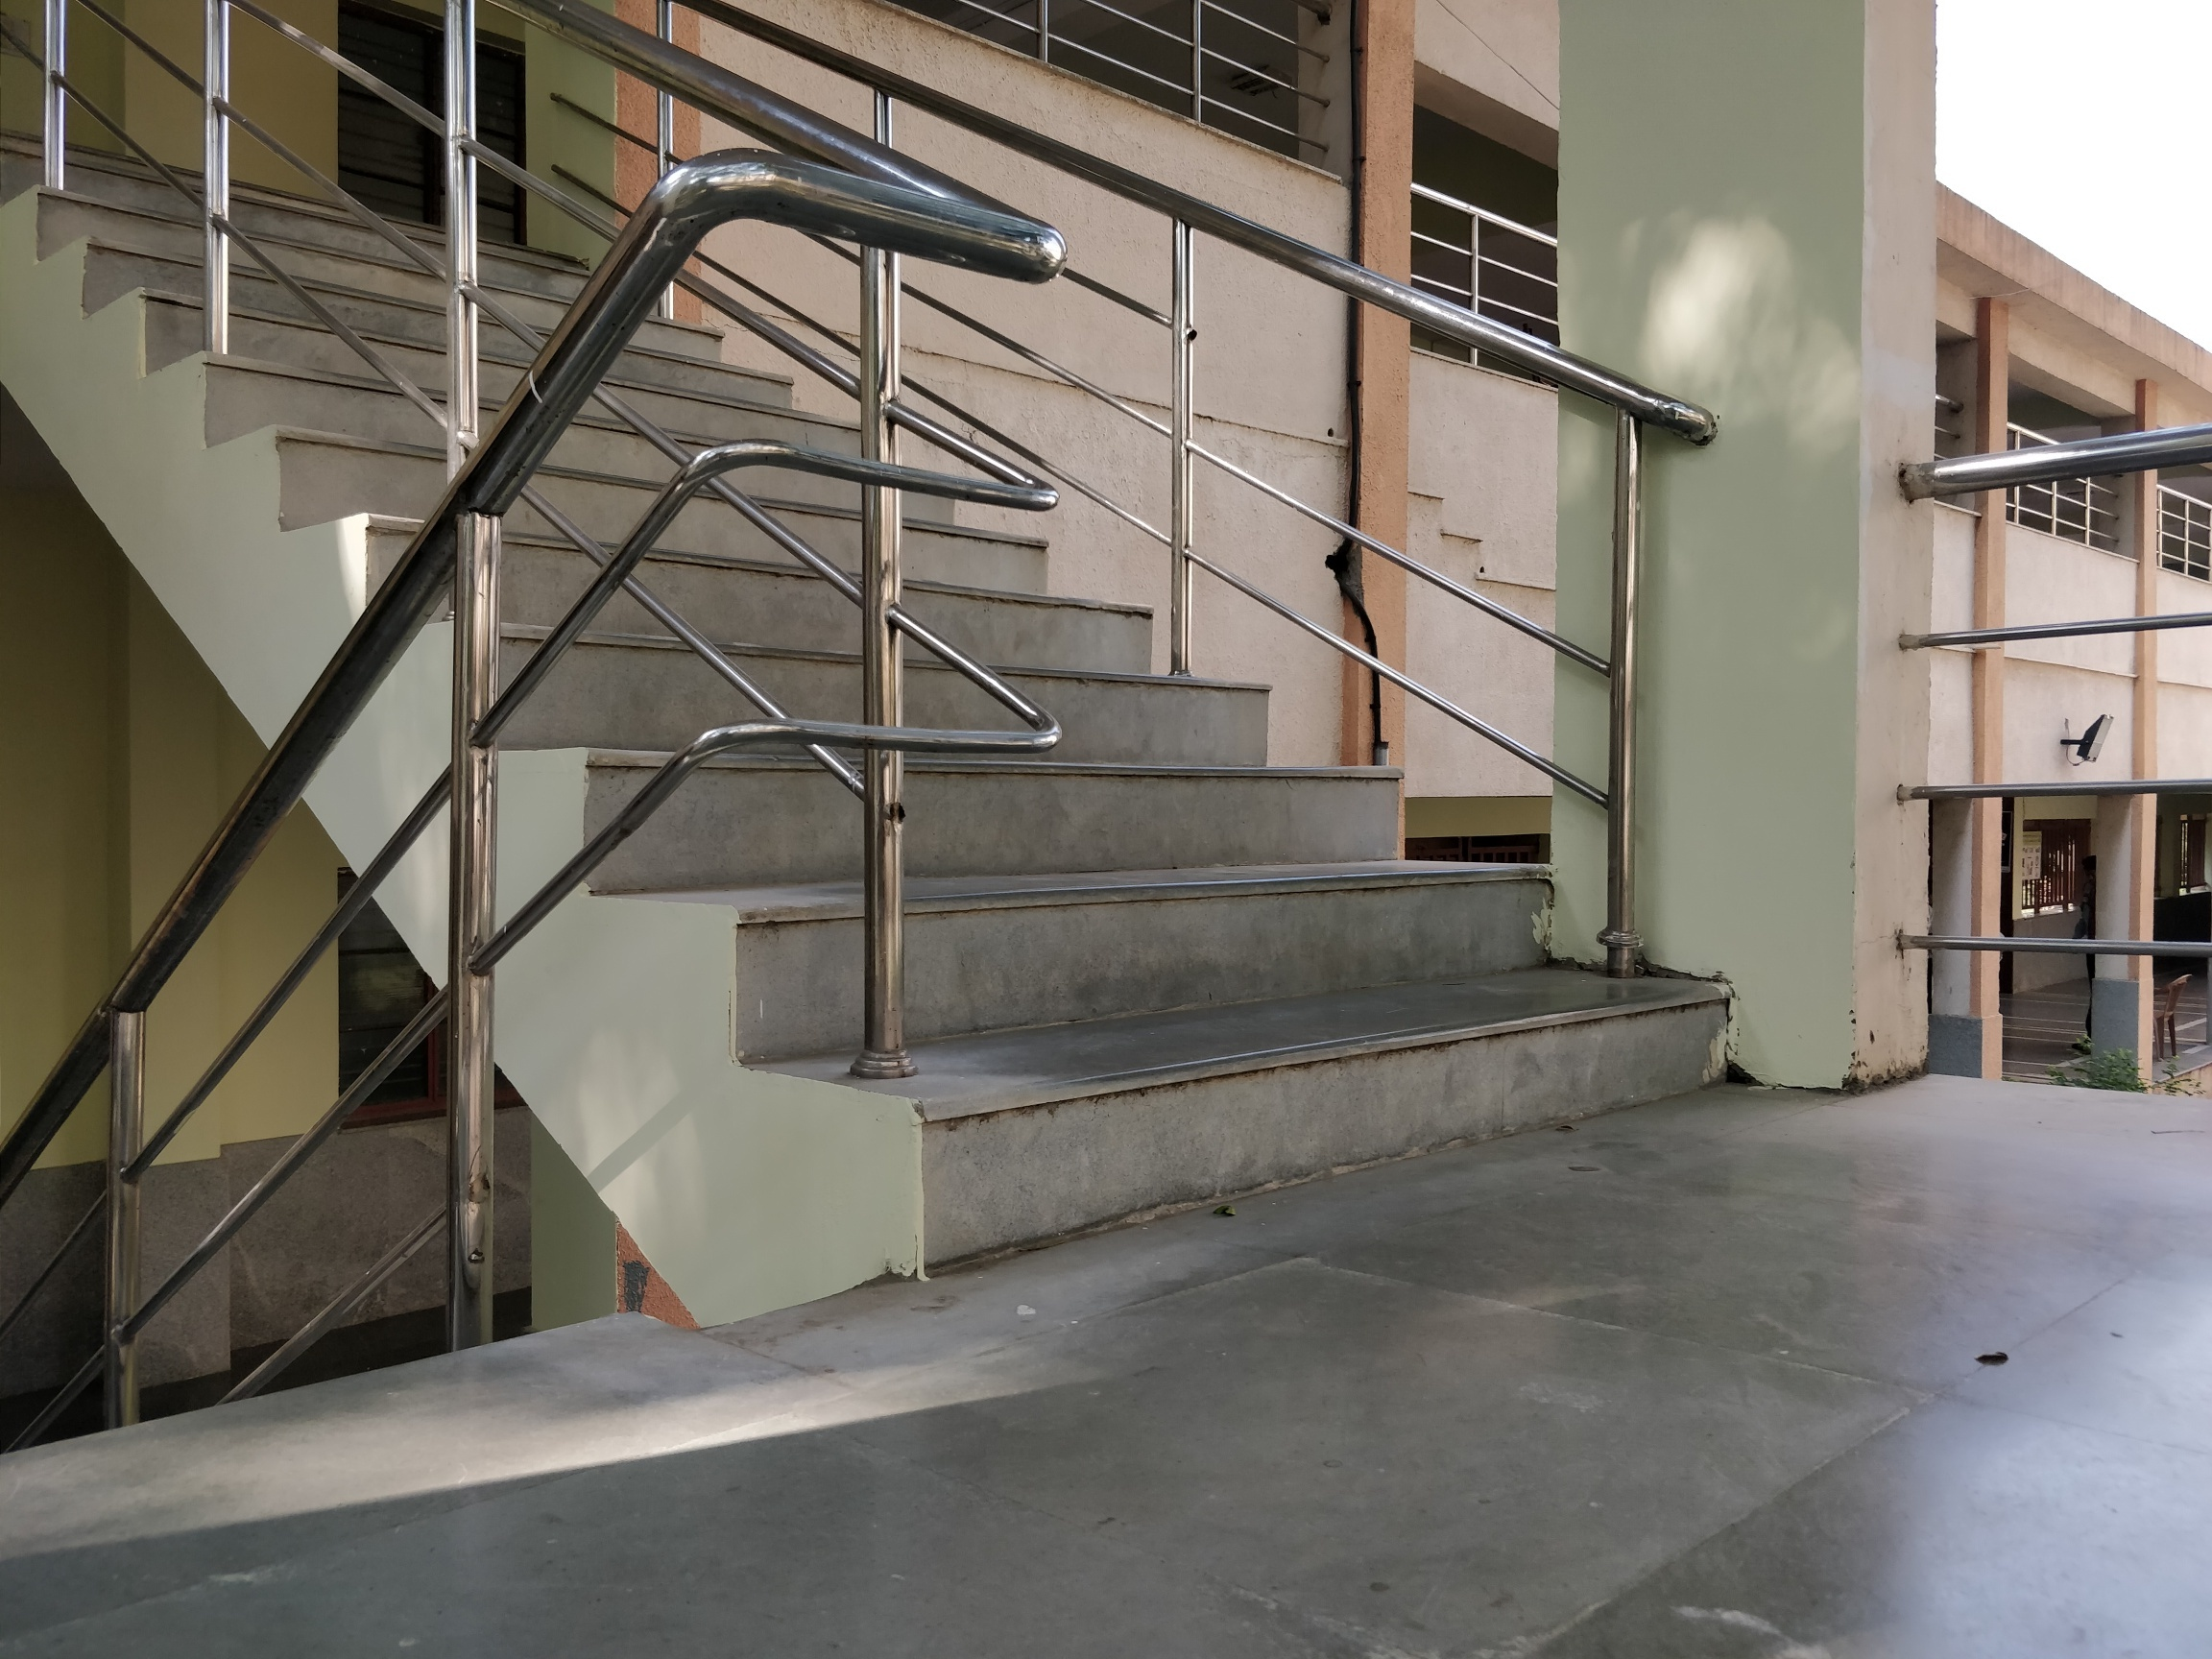stairs_up: (186, 214, 1777, 1195)
